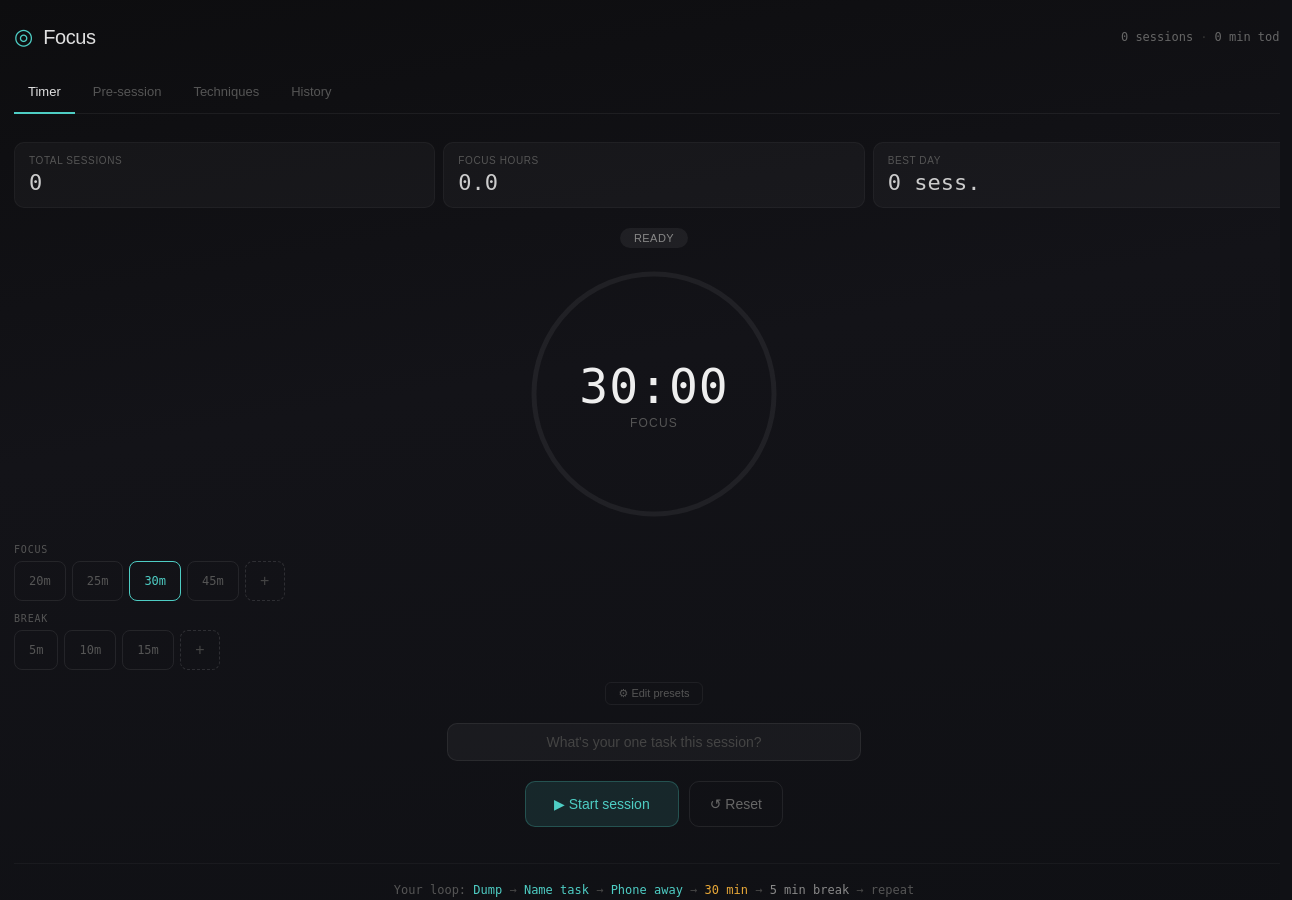
Test: FocusSystem › adds custom focus preset
Click the button "⚙ Edit presets": (654, 694) left=606, top=682, right=702, bottom=705
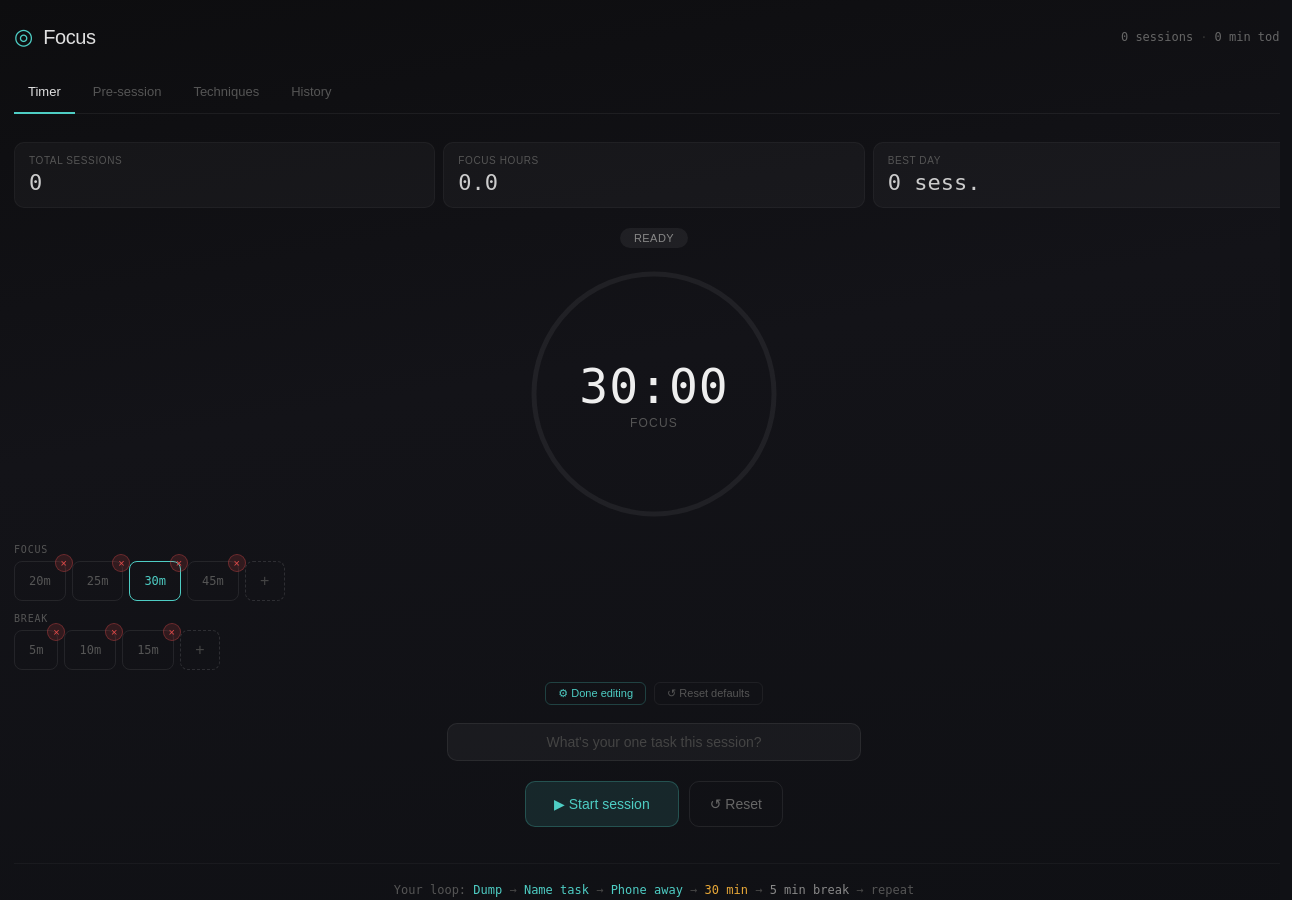
Click the 1st button titled "Add custom focus time": (265, 581) left=245, top=561, right=285, bottom=601
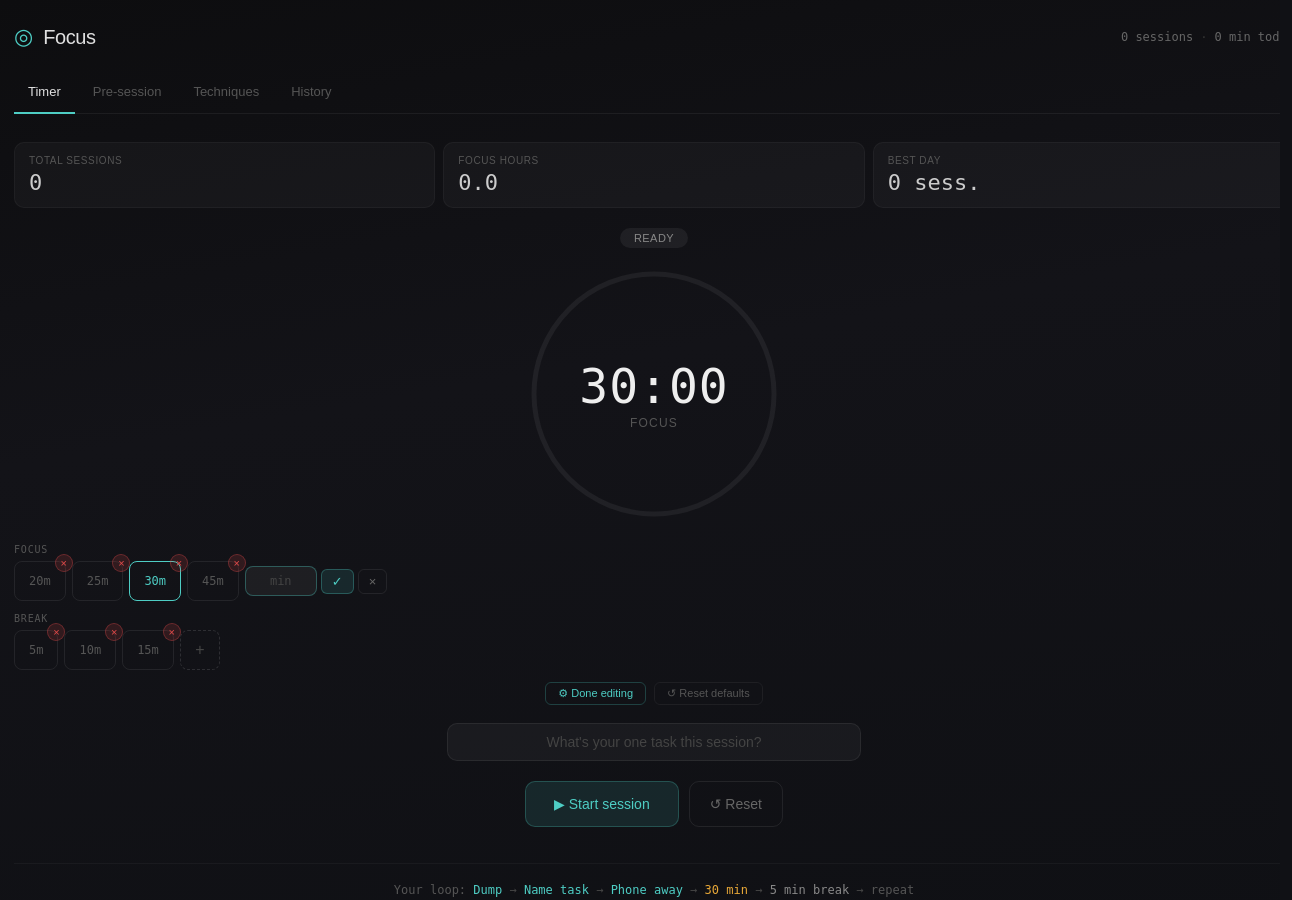
In the field with placeholder "min": (281, 581) left=245, top=566, right=317, bottom=596, type "40"
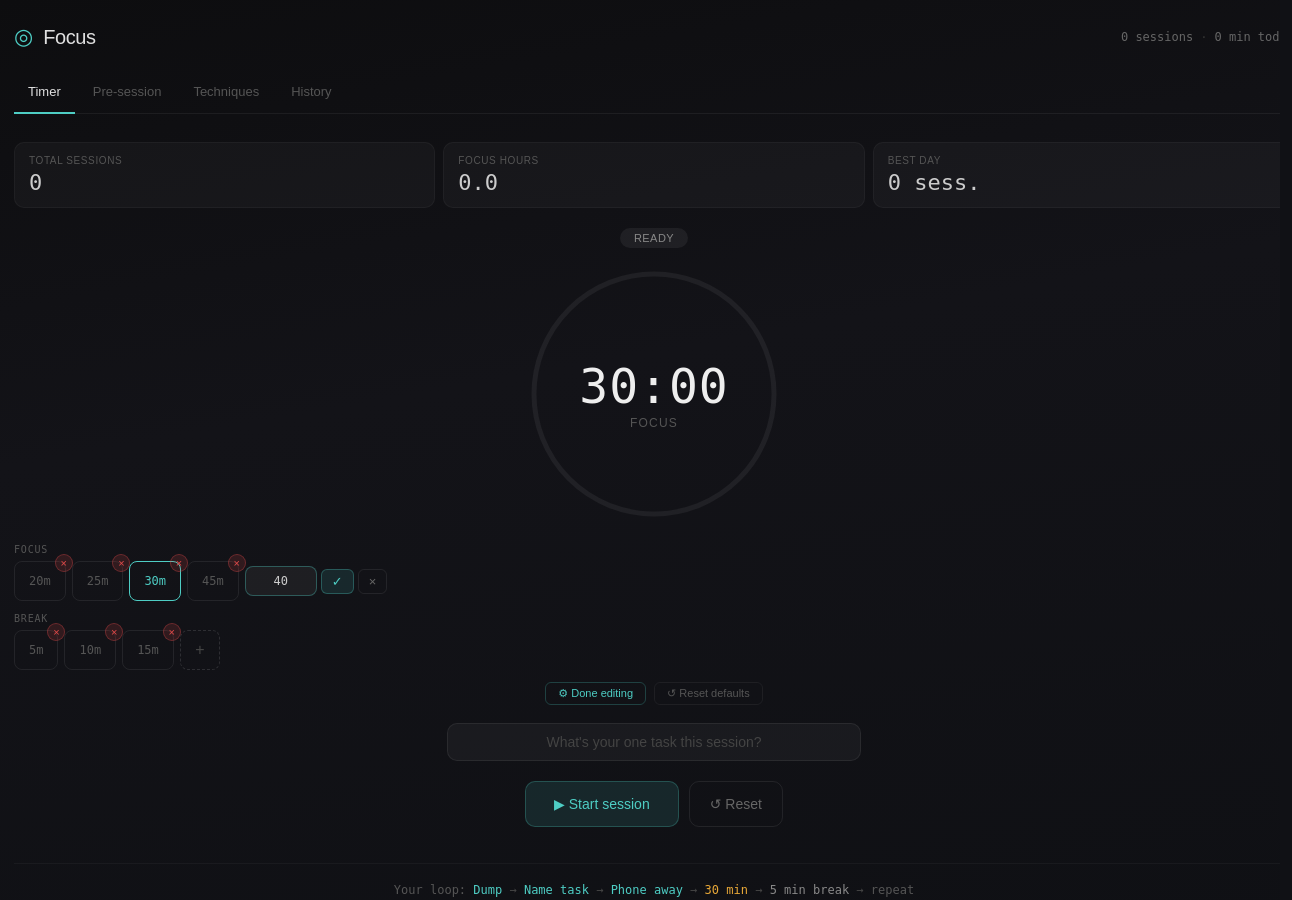
Press Enter in the field with placeholder "min", box left=245, top=566, right=317, bottom=596
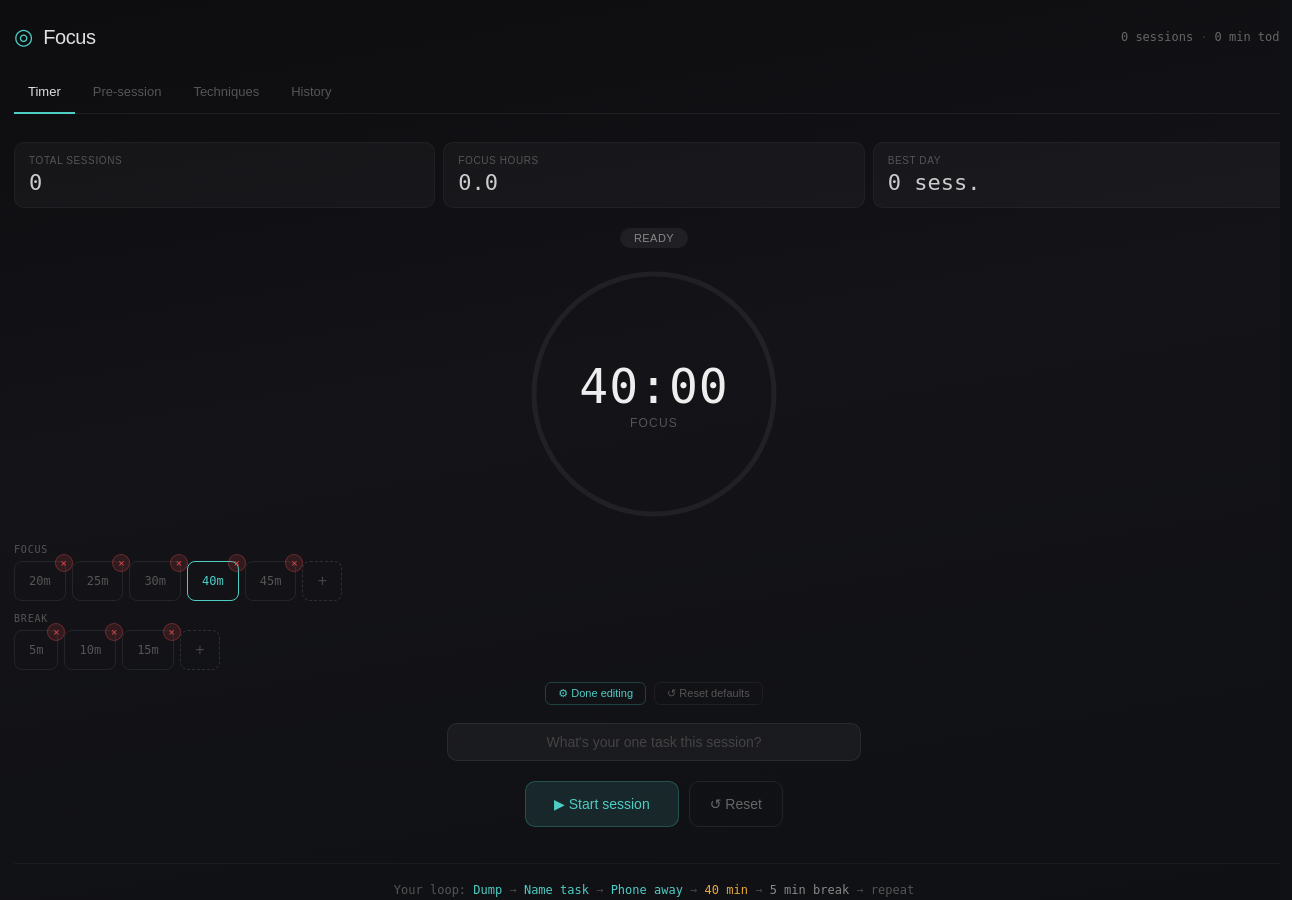
Now the button "40m" is shown, box left=187, top=561, right=239, bottom=601
